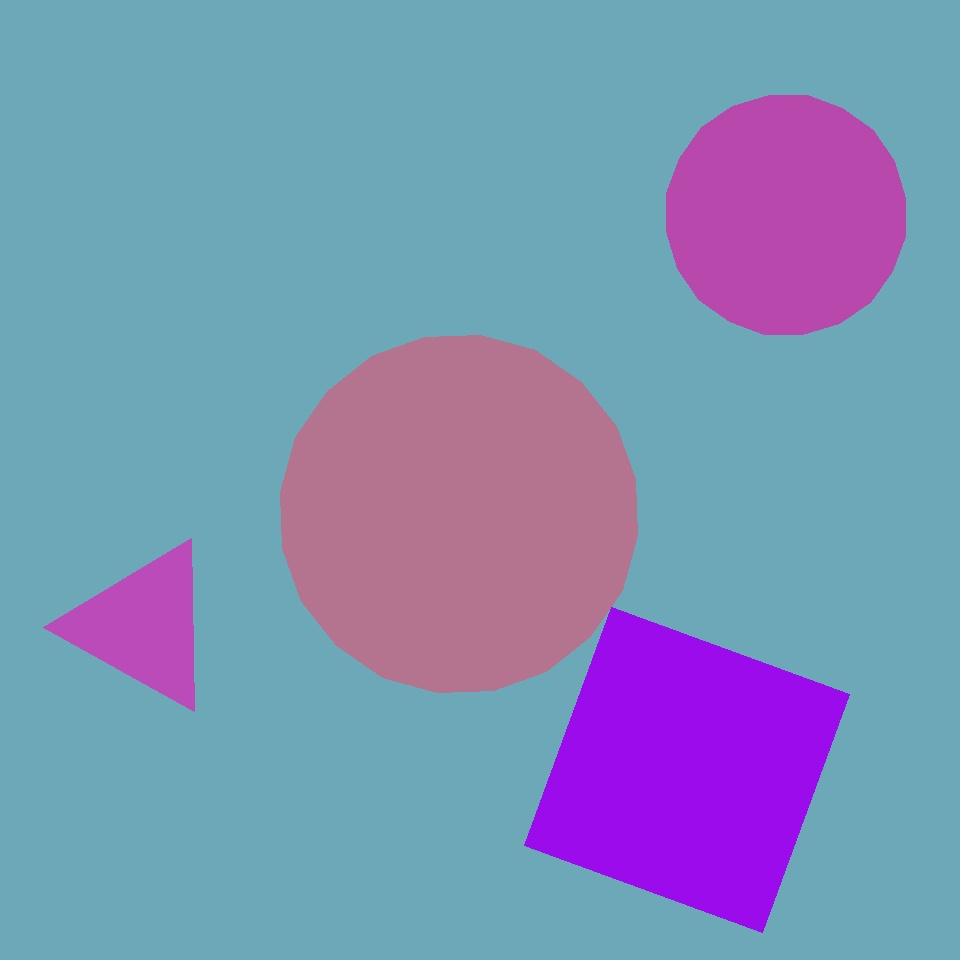circle: (420, 348, 725, 620), (68, 540, 218, 712), (228, 35, 336, 154)
square: (524, 608, 850, 933), (325, 108, 565, 348)
triangle: (281, 336, 638, 692), (352, 112, 696, 456), (666, 96, 906, 334), (462, 757, 660, 955), (71, 121, 228, 278)
